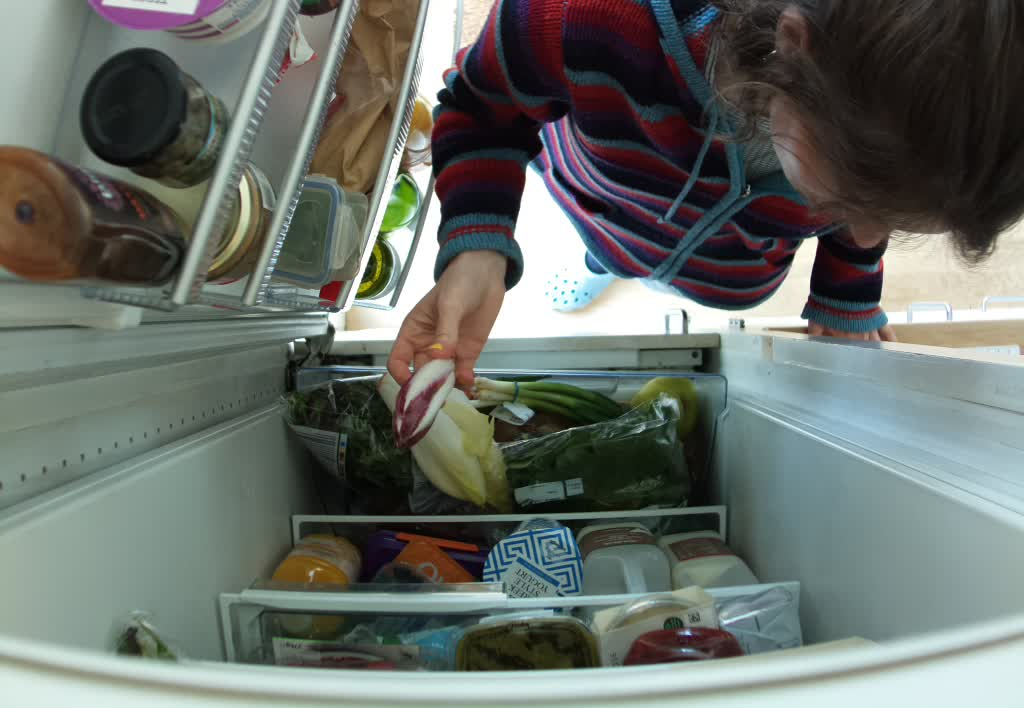salad: (503, 401, 689, 505), (377, 371, 508, 508), (284, 375, 401, 512), (387, 352, 461, 450)
